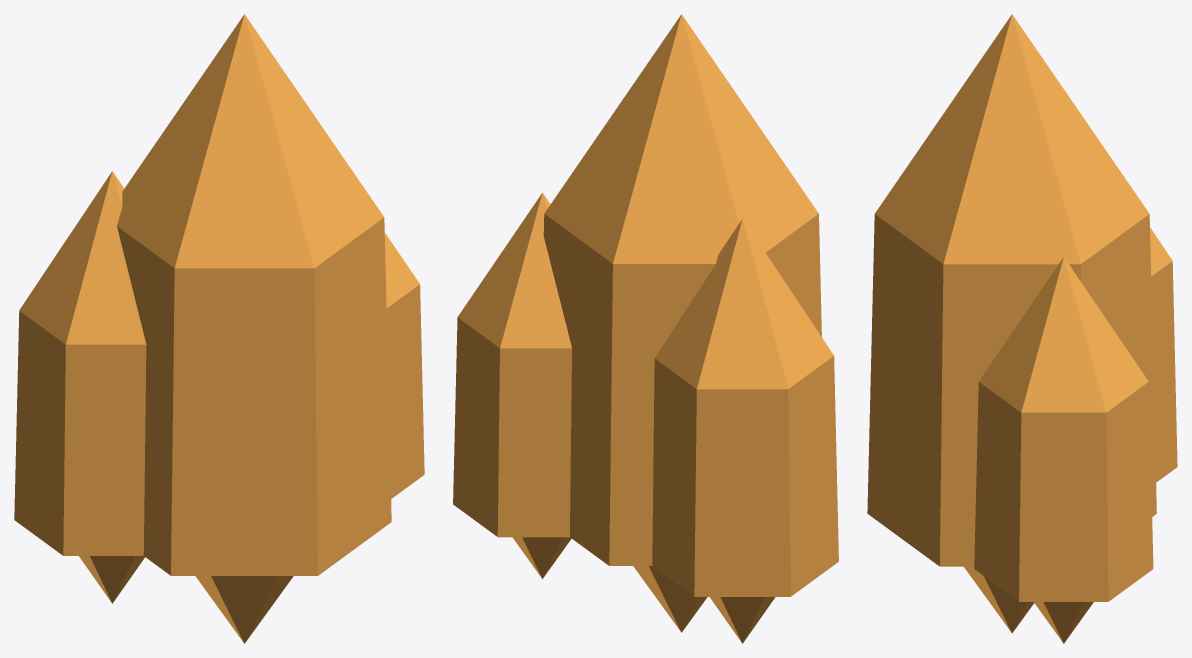
File: FireCrystal.fbx
3 renders of one model, left to right at view 1: azimuth 30°, elevation 25°; view 2: azimuth 150°, elevation 25°; view 3: azimuth 270°, elevation 25°, orthographic.
Visible parts, largest first — view 1: FireCrystal_Crystal; view 2: FireCrystal_Crystal; view 3: FireCrystal_Crystal.
Part boxes in pixels (x1,y1,x2,y2): FireCrystal_Crystal: (14,14,424,643); FireCrystal_Crystal: (453,14,838,643); FireCrystal_Crystal: (867,14,1177,643).
Bounding box in the file's own units: 117 × 198 × 90.
